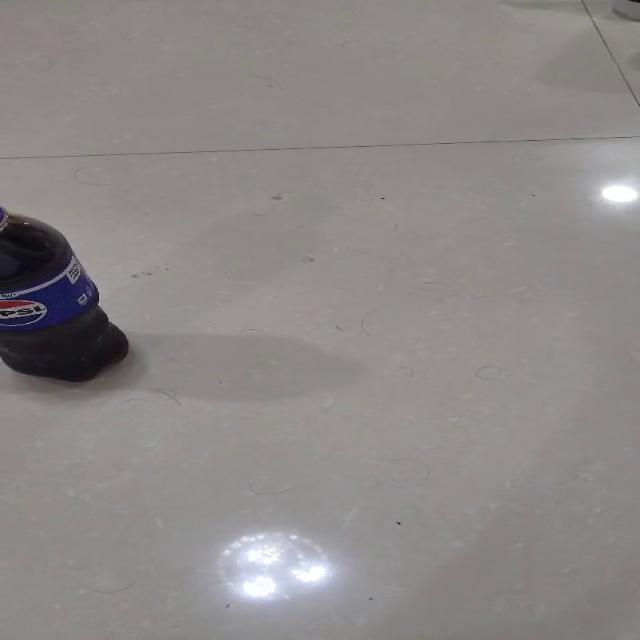plastic: (0, 204, 130, 383)
